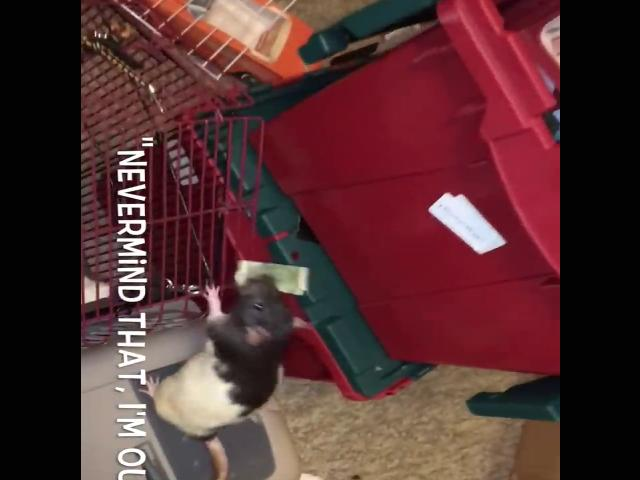Tikus: (150, 277, 302, 480)
